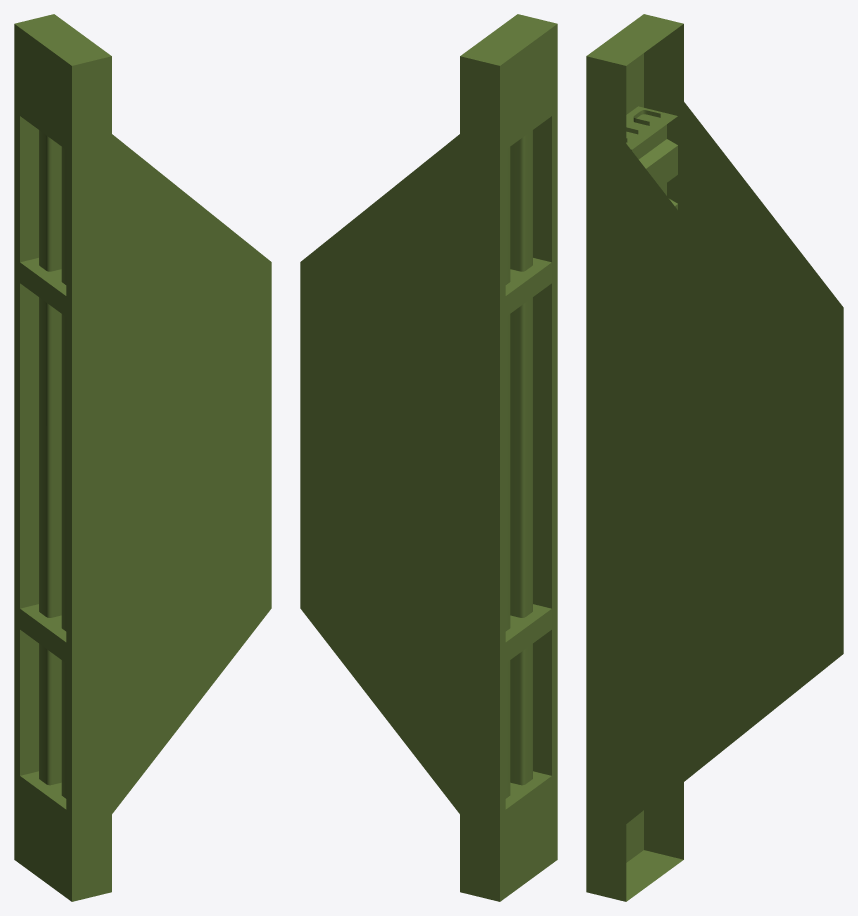
File: Wall_A_4x05m_End.FBX
3 views of the same model, side by side, from view 1: azimuth 30°, elevation 25°; view 2: azimuth 150°, elevation 25°; view 3: azimuth 330°, elevation 25° (orthographic).
Visible parts, largest first — view 1: Wall_A_4x05m_End; view 2: Wall_A_4x05m_End; view 3: Wall_A_4x05m_End.
Part boxes in pixels (x1=…): Wall_A_4x05m_End: x1=14, y1=14, x2=271, y2=901; Wall_A_4x05m_End: x1=300, y1=14, x2=557, y2=901; Wall_A_4x05m_End: x1=586, y1=14, x2=843, y2=901.
Bounding box in the file's own units: 100 × 400 × 50.
